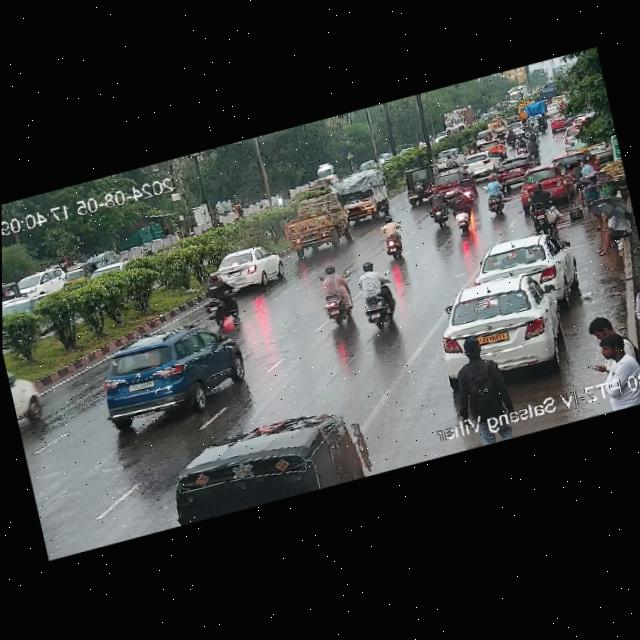car: (149, 406, 370, 530), (425, 260, 588, 391), (92, 319, 252, 436), (472, 227, 571, 305), (202, 239, 288, 296), (6, 360, 45, 432), (516, 162, 567, 204), (14, 263, 65, 301), (57, 256, 101, 293), (493, 154, 539, 187), (401, 163, 435, 207), (457, 149, 498, 179), (548, 147, 589, 171), (428, 169, 464, 194), (557, 123, 583, 156), (433, 145, 460, 169), (486, 135, 507, 160), (548, 110, 573, 131)
motorcycle: (351, 257, 400, 332), (315, 260, 357, 328), (195, 273, 242, 320), (516, 178, 556, 228), (476, 174, 512, 219), (417, 188, 454, 230), (374, 216, 407, 260), (449, 188, 476, 232), (513, 126, 541, 157), (503, 127, 517, 149), (535, 112, 547, 137), (464, 137, 480, 155), (465, 136, 478, 156), (442, 151, 455, 169), (497, 130, 503, 139)
person: (443, 338, 516, 428), (583, 335, 639, 392), (589, 196, 635, 254), (567, 155, 599, 193), (586, 312, 618, 346)
truck: (272, 185, 357, 266), (337, 166, 394, 227), (439, 102, 476, 138)
